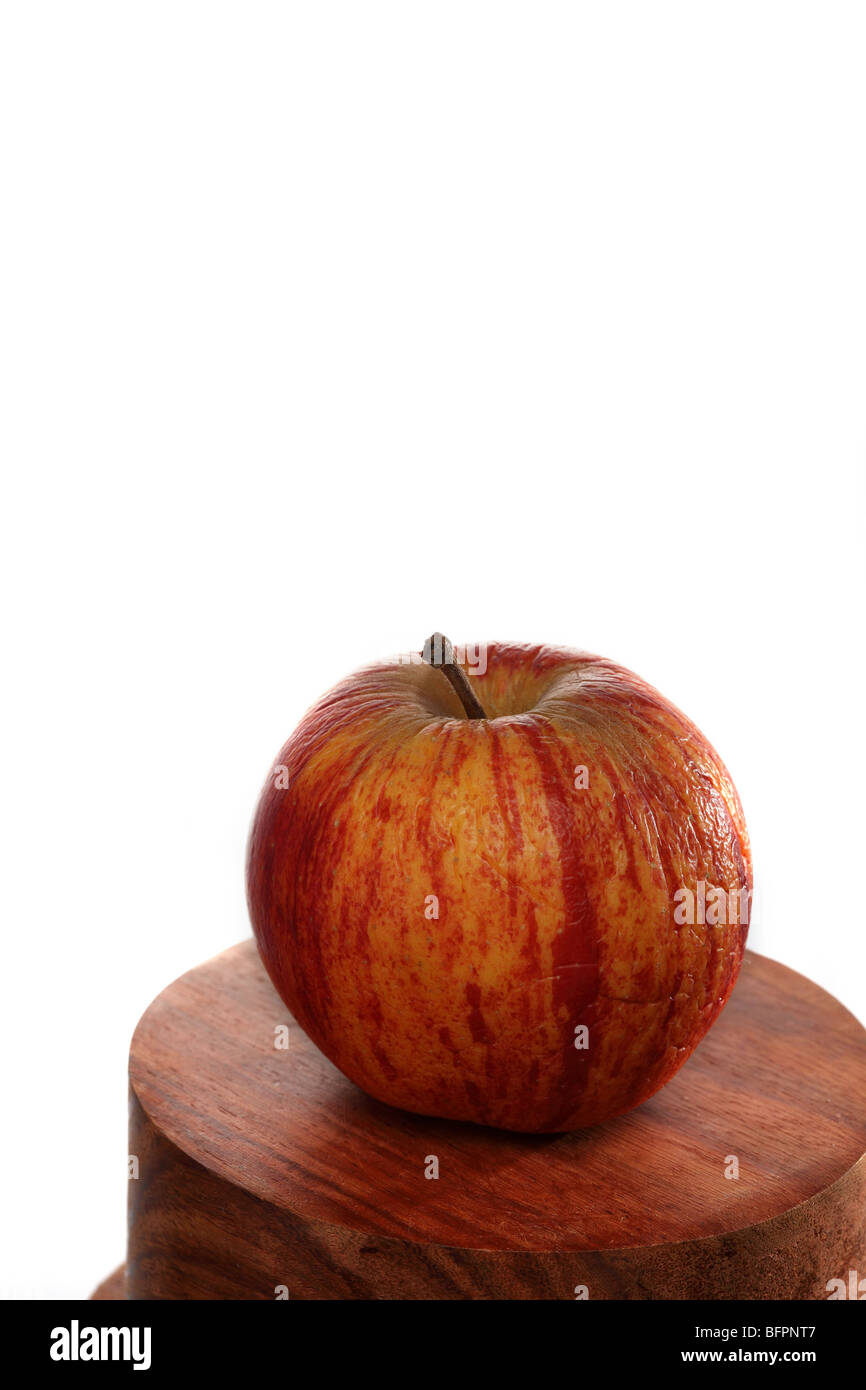apple/: (255, 624, 791, 1178)
